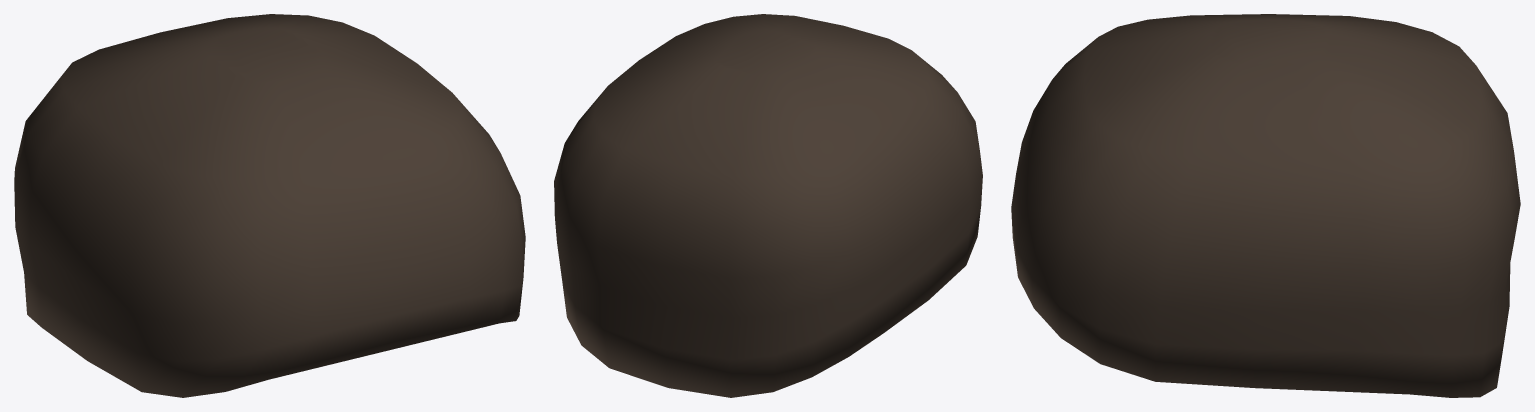
The model's file is hair_fade.glb.
3 renders of one model, left to right at view 1: azimuth 30°, elevation 25°; view 2: azimuth 150°, elevation 25°; view 3: azimuth 270°, elevation 25°, orthographic. The views are drawn at different scales.
Parts seen in each view (by area): view 1: hair_fade; view 2: hair_fade; view 3: hair_fade.
Boxes of the visible parts, left/top/right/bottom form: hair_fade: left=14, top=14, right=525, bottom=397; hair_fade: left=554, top=14, right=982, bottom=397; hair_fade: left=1011, top=14, right=1520, bottom=397.
Bounding box in the file's own units: 0.171 × 0.132 × 0.1941.
